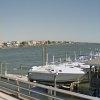Boat: (21, 52, 99, 89)
